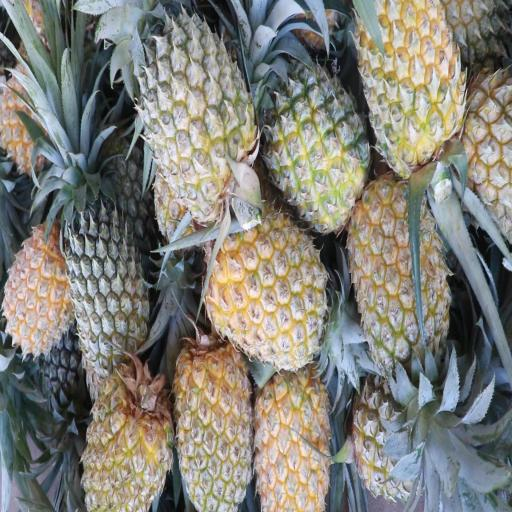------------------------------: (140, 20, 245, 213), (266, 60, 363, 224), (349, 370, 435, 494)
Pineapple - v8 v1: (205, 204, 323, 364), (350, 0, 460, 167), (344, 186, 445, 364), (172, 332, 251, 512), (80, 361, 171, 512), (253, 360, 330, 510), (3, 221, 76, 355), (0, 57, 62, 167)
